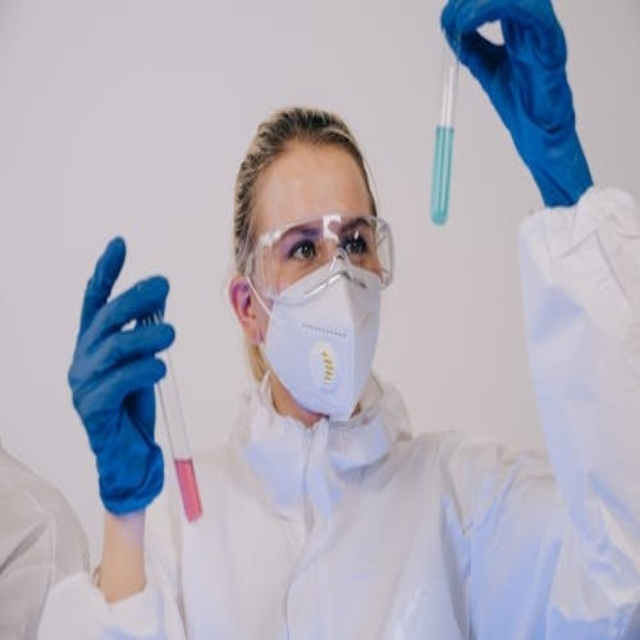Gafas: (242, 214, 394, 307)
Guantes: (442, 0, 595, 211), (67, 234, 175, 520)
Mascara: (252, 236, 387, 422)
